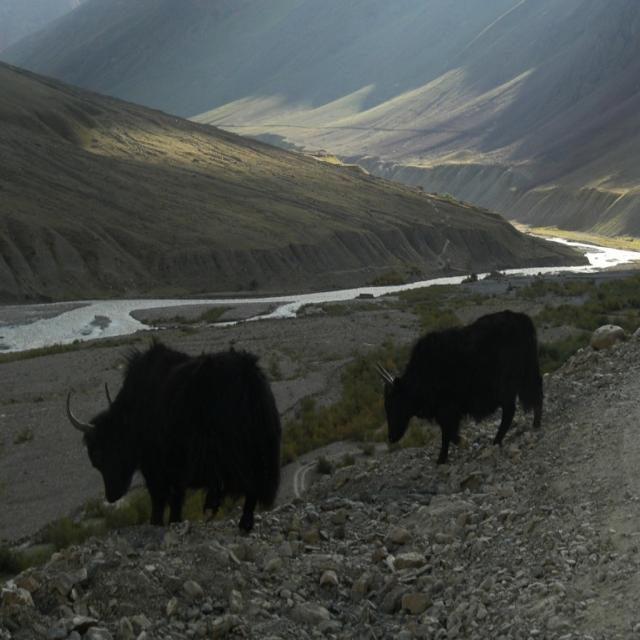bull: (41, 302, 314, 550), (361, 273, 590, 506)
